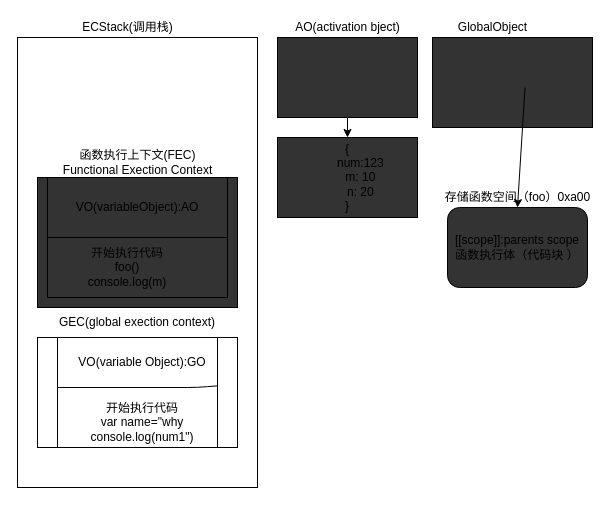
The diagram is 615 pixels wide and 505 high, and some of its shapes have lost their labels. Here are the shapes that lost their labels. From the top down, the box of each, then its label:
(276, 36, 418, 118): { num:undfined m: undefined n: undefined }
(432, 36, 592, 128): { name: undefind foo:0xa00 }
